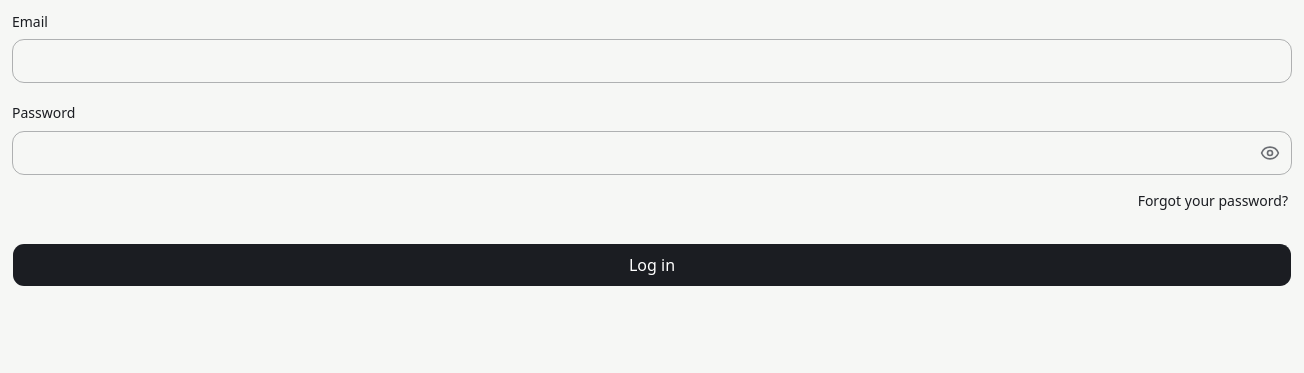
Scenario: LoginForm › clears the password after a mismatch
This screenshot has width=1304, height=373.
Type "thandi@example.test" into the field labelled "Email" at point(652, 61), box [12, 39, 1292, 83]
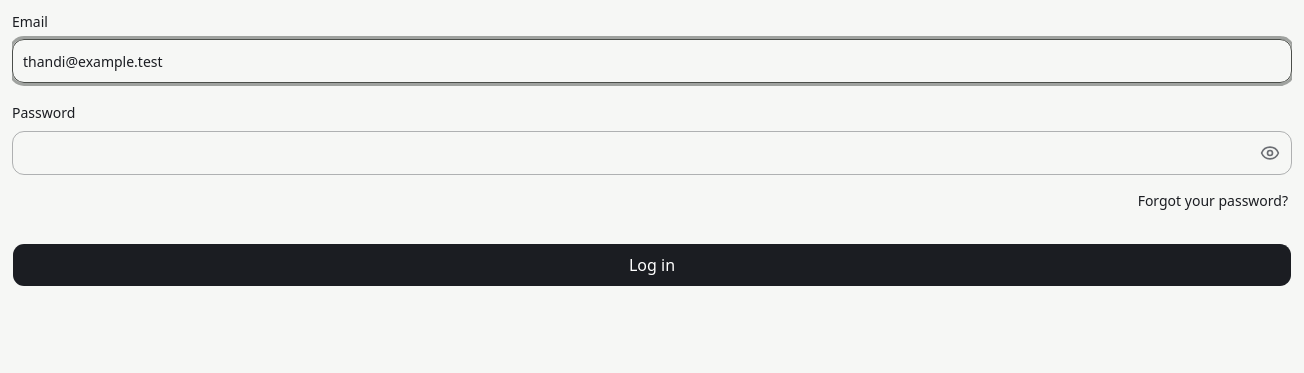
Type "correct horse" into the password field labelled "Password" at point(652, 152), box [12, 130, 1292, 174]
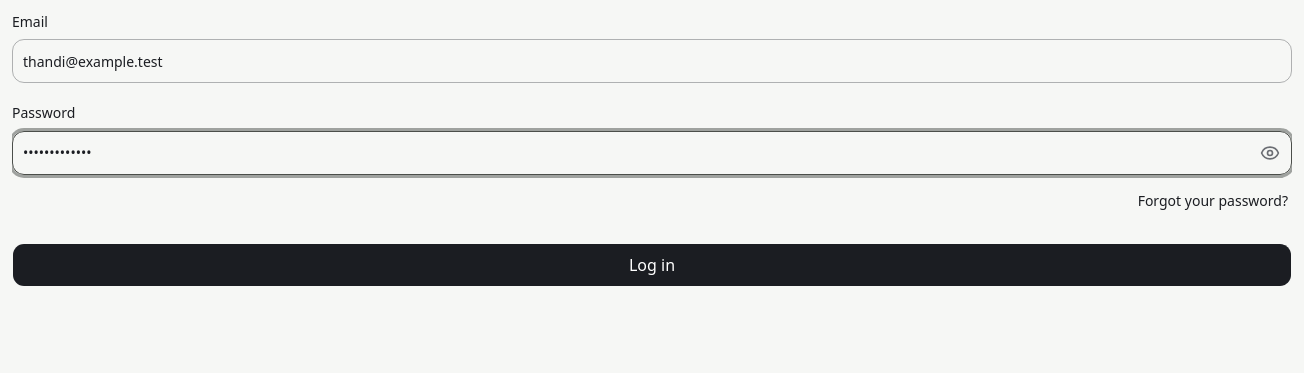
Click the button "Log in" at point(652, 264), box [12, 242, 1292, 286]
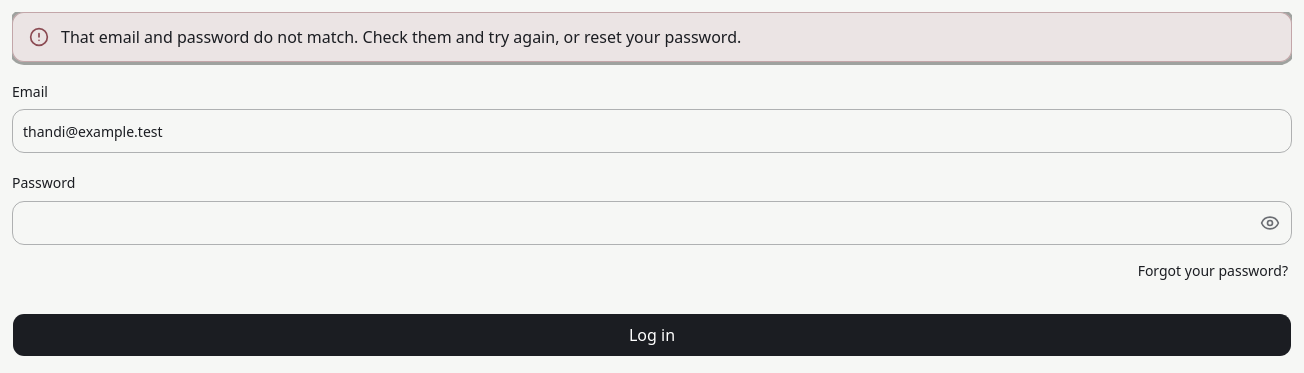
Check: the message is shown, box [12, 12, 1292, 62]
Check: the password field labelled "Password" is empty, box [12, 200, 1292, 244]
